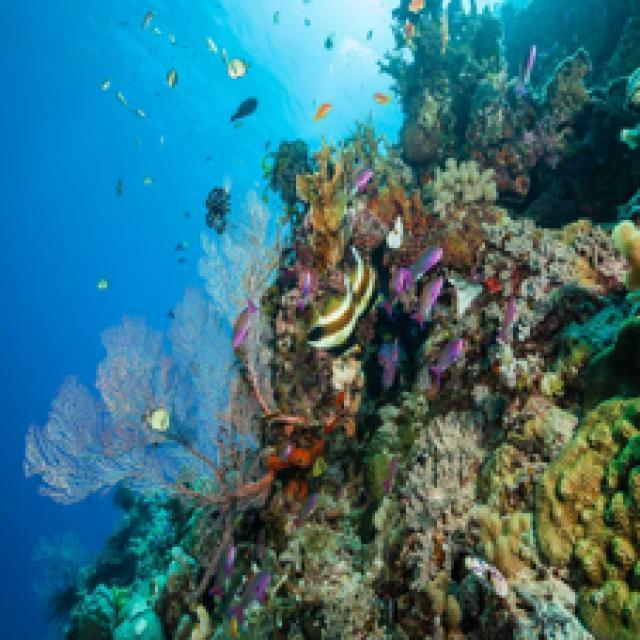Healthy: (547, 383, 639, 638), (300, 148, 353, 262), (263, 429, 327, 513), (431, 157, 496, 209), (412, 220, 482, 261), (615, 221, 640, 283)
